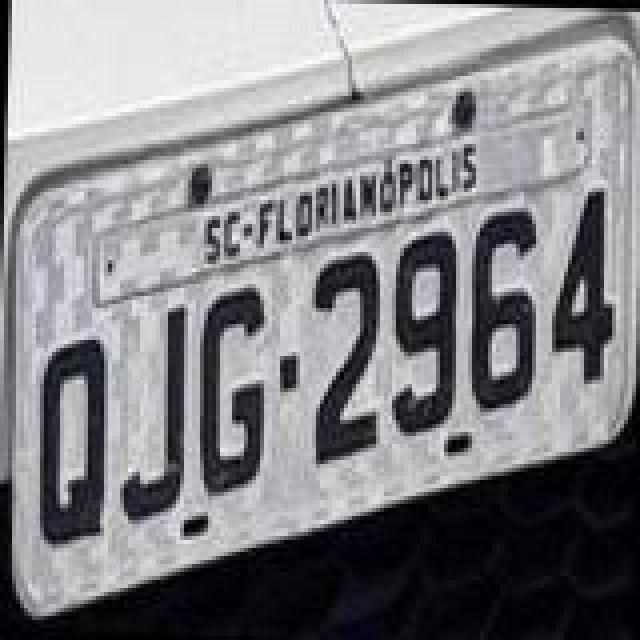2: (304, 250, 384, 470)
4: (548, 188, 620, 388)
6: (466, 206, 542, 418)
9: (388, 230, 460, 442)
G: (194, 286, 270, 498)
J: (116, 304, 188, 528)
Q: (34, 336, 110, 552)
